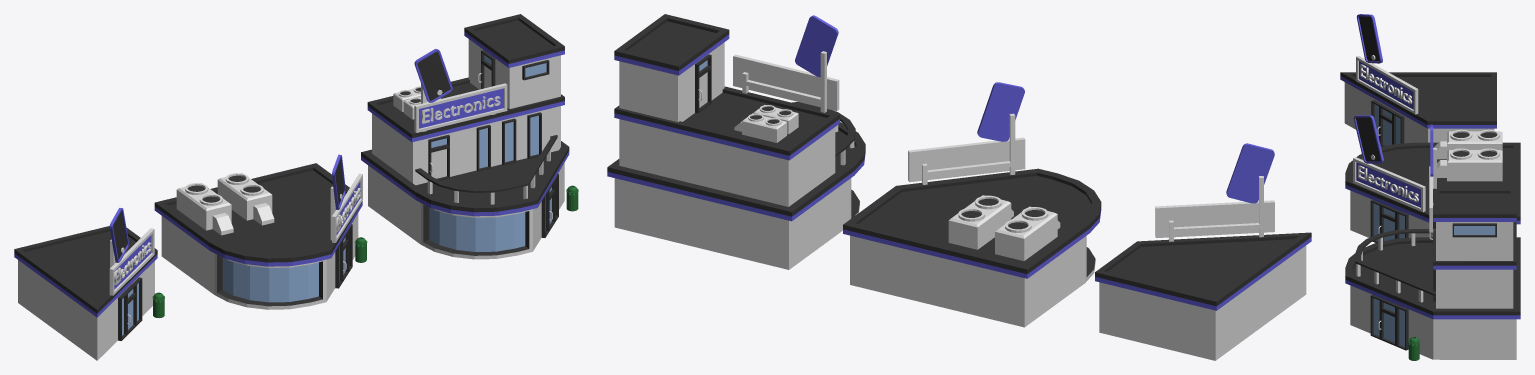
Rendered from electronics.fbx.
3 views of the same model, side by side, from view 1: azimuth 30°, elevation 25°; view 2: azimuth 150°, elevation 25°; view 3: azimuth 270°, elevation 25° (orthographic). The views are drawn at different scales.
Parts seen in each view (by area): view 1: el3, el2, el1; view 2: el3, el2, el1; view 3: el3, el2, el1.
Boxes of the visible parts, x1,y1,x2,y2 form: el3: (361,14,578,259); el2: (154,154,367,309); el1: (14,208,164,360); el3: (607,14,865,269); el2: (843,82,1101,327); el1: (1095,143,1311,360); el3: (1345,124,1520,360); el2: (1345,115,1520,242); el1: (1340,14,1496,146).
Size of the model in its own units: 2046 by 689 by 650.
